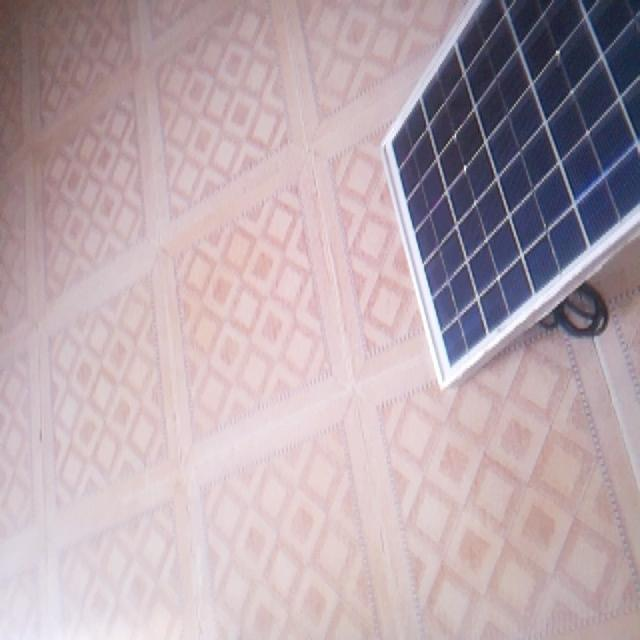Normal Solar Panel: (384, 1, 640, 388)
